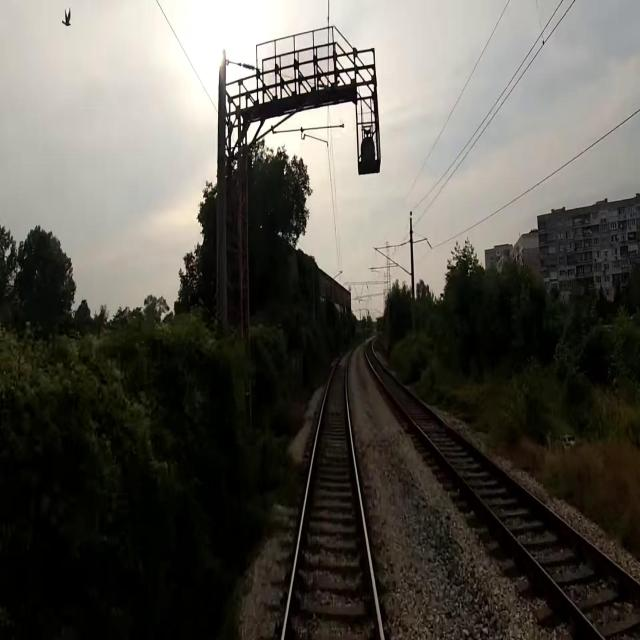rail-track: (367, 343, 640, 639), (292, 349, 373, 601)
